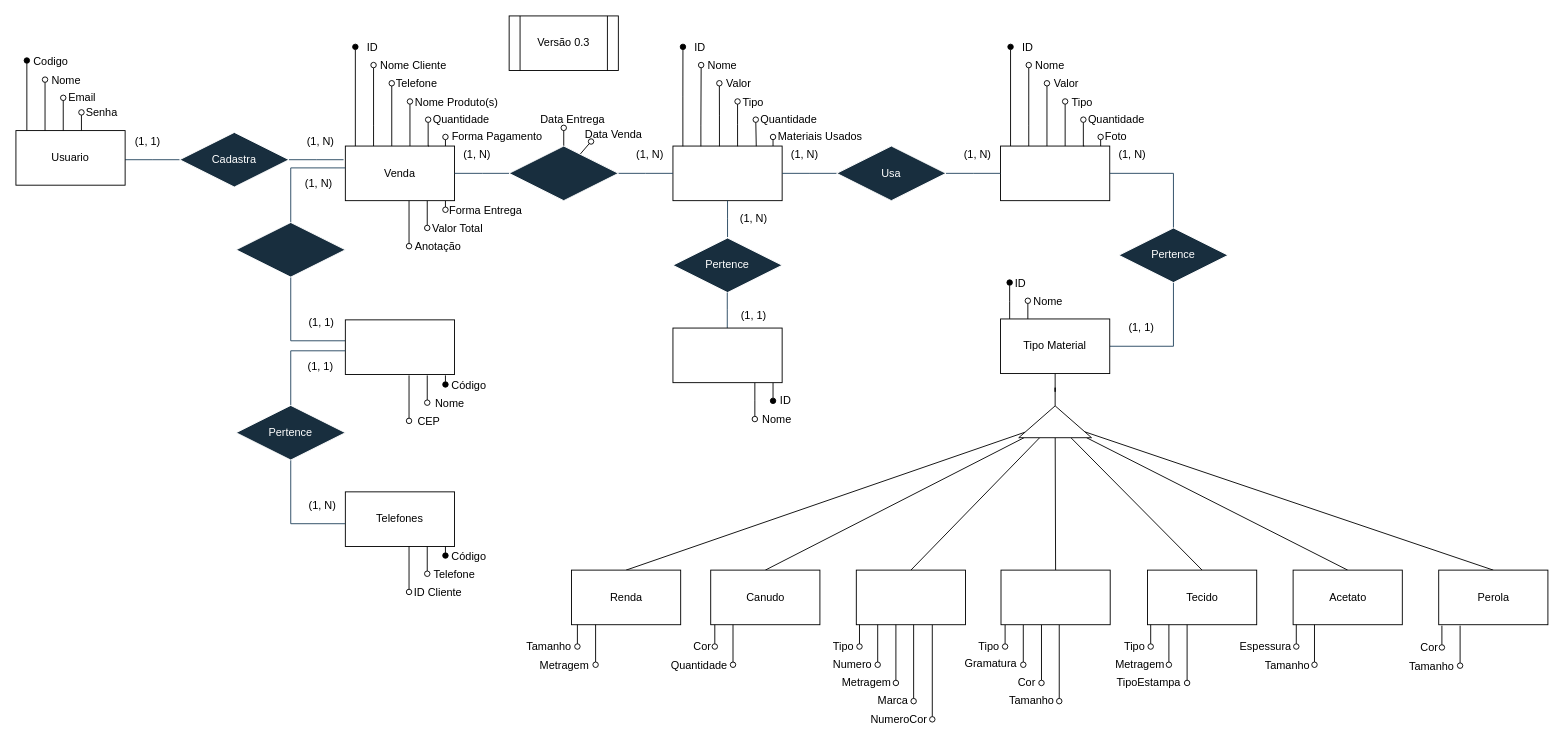
The diagram is 1564 pixels wide and 743 high, and some of its shapes have lost their labels. Each missing label, with the box of its shape:
Cliente: (344, 319, 455, 374)
Compra: (235, 222, 345, 277)
Fita: (855, 569, 966, 625)
Materiais: (1000, 145, 1110, 201)
Papel: (1000, 569, 1110, 625)
Produto: (672, 145, 782, 201)
Tipo Produto: (672, 327, 782, 383)
Vende: (508, 145, 618, 201)
